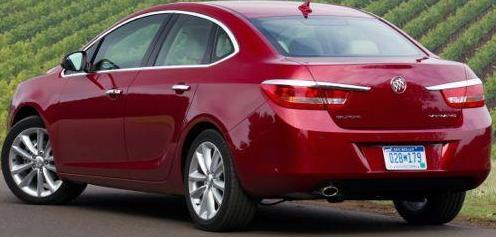back_view: (250, 54, 493, 199)
backlight: (252, 71, 357, 115)
side_glass: (84, 10, 244, 77)
